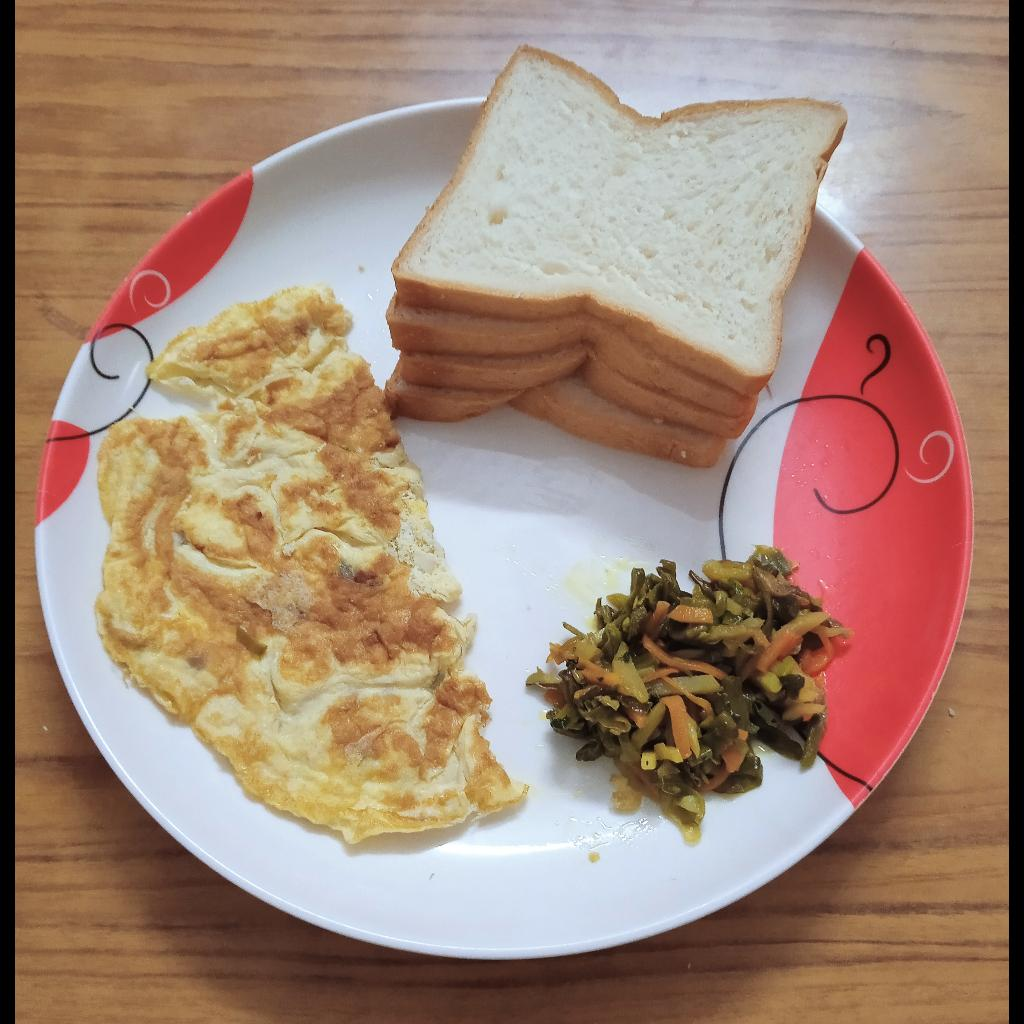bread: (385, 51, 852, 465)
egg-poached: (91, 287, 527, 844)
vegetable: (513, 551, 841, 828)
